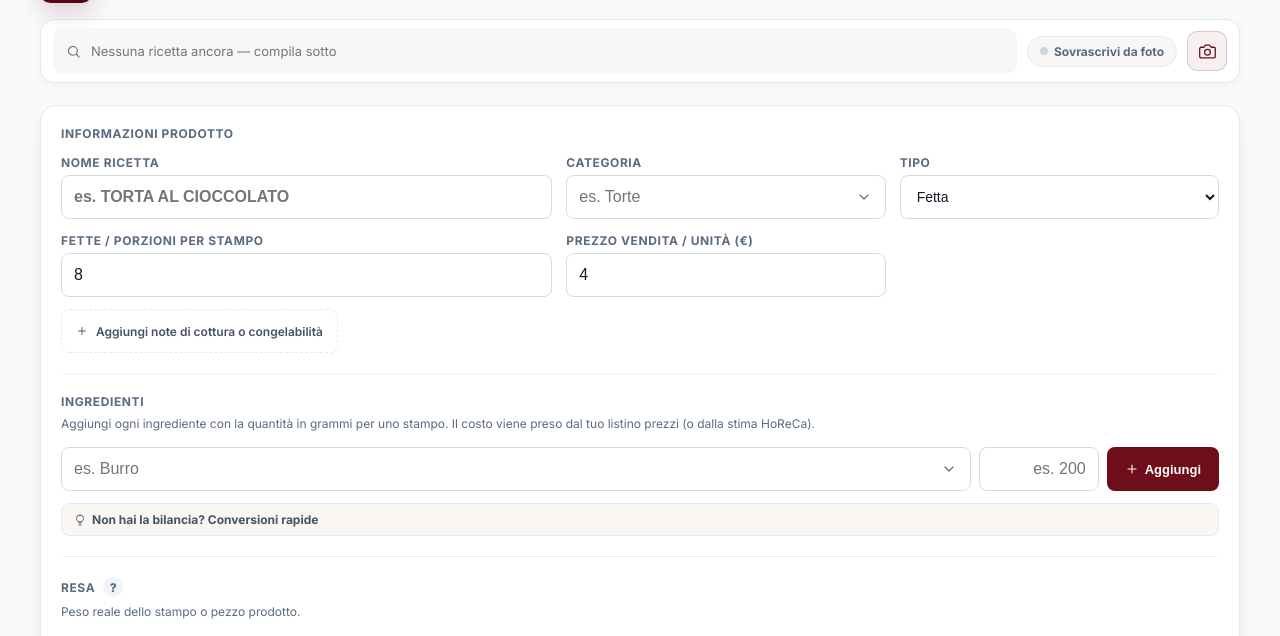
Test: Nuova Ricetta - onesta del verdetto › senza i prezzi degli ingredienti NON dice "Sano" e NON mostra margine 100%
In the dropdown named "nome ingrediente da aggiungere": (516, 469) [61, 447, 971, 491], type "farcitura segreta della nonna"
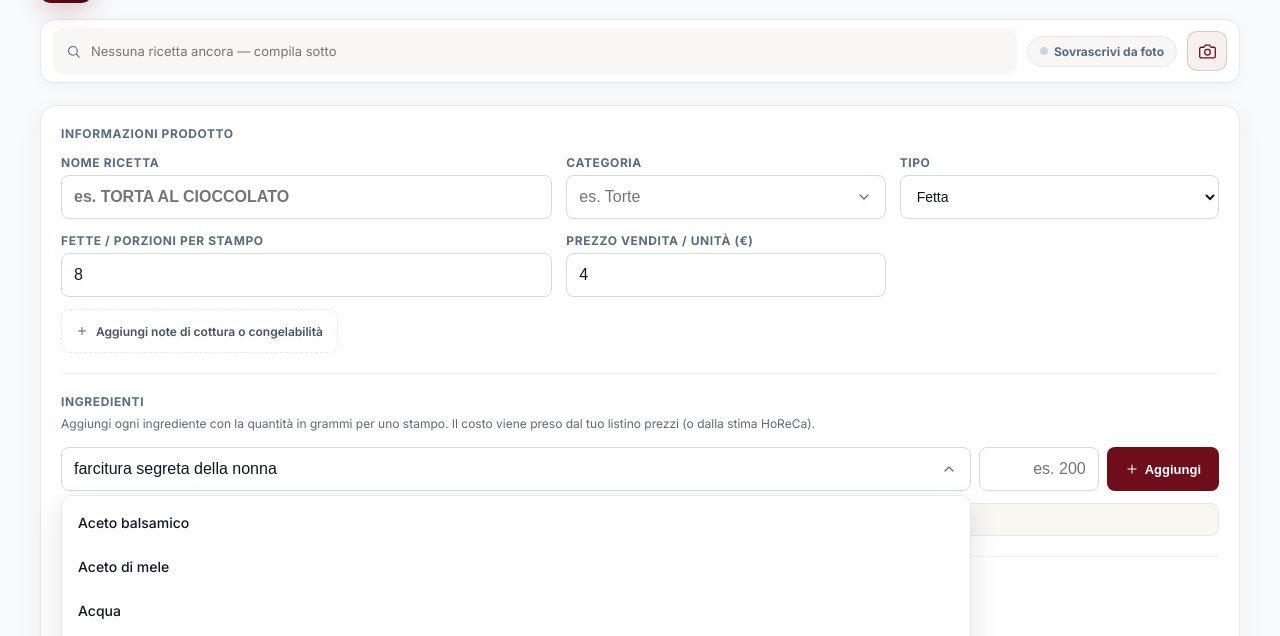
In the field named "grammi di ingrediente da aggiungere": (1039, 469) [979, 447, 1099, 491], type "300"
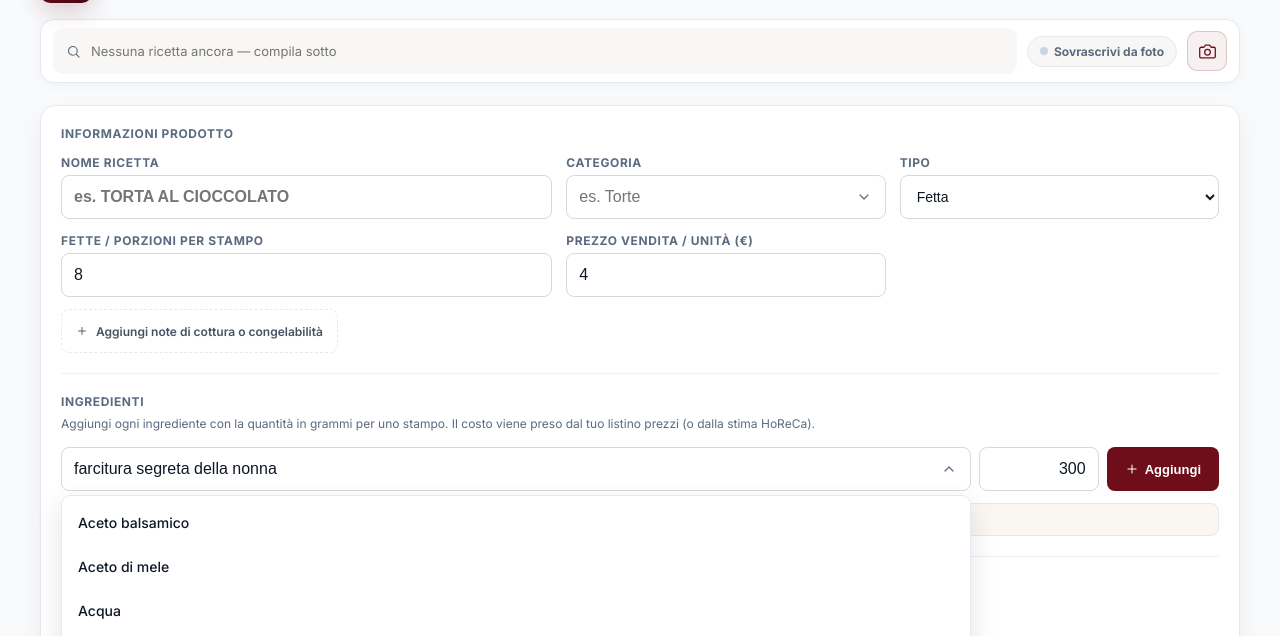
Click the button with aria-label "Aggiungi ingrediente alla ricetta": (1163, 469) [1107, 447, 1219, 491]
(page scrolled)
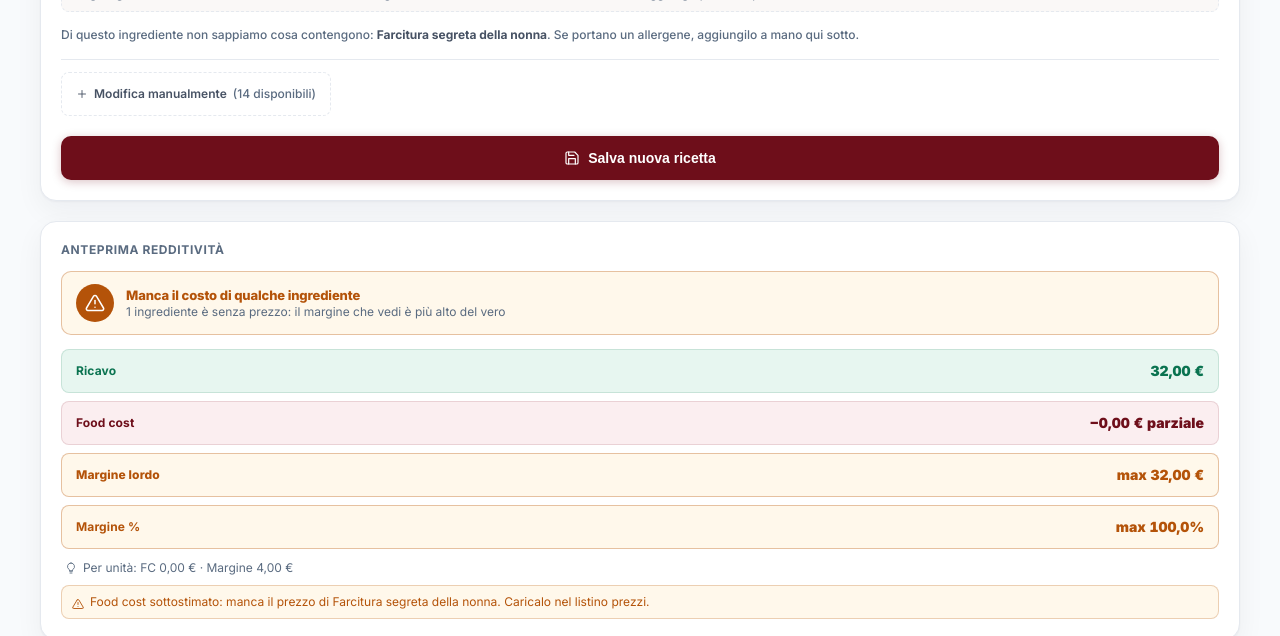
Expected: the text "senza prezzo" is shown, [126, 304, 288, 319]
Expected: the text "max 100,0%" is shown, [1116, 518, 1204, 535]
Expected: the text "il margine che vedi è più alto del vero" is shown, [288, 304, 506, 319]
